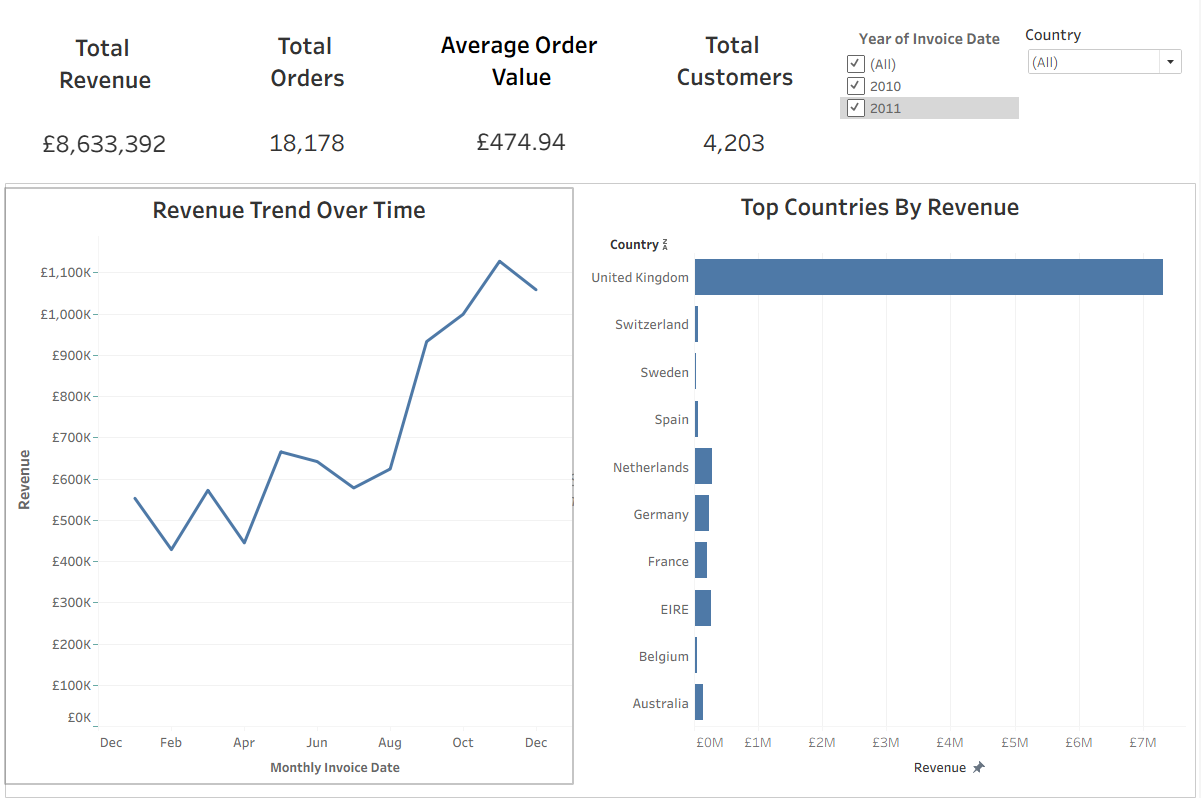

The page's visual inventory and layout, read from the dashboard file:
{"tool":"tableau","page":{"name":"Executive Overview","canvas":[1200,800],"ordinal":1},"visuals":[{"type":"worksheet","title":"KPI - Average Order Value (AOV)","mark":"Automatic","box":[417,25,211,156]},{"type":"worksheet","title":"KPI - Total Customers","mark":"Automatic","box":[636,25,200,157]},{"type":"worksheet","title":"KPI - Total Orders","mark":"Automatic","box":[206,26,205,155]},{"type":"worksheet","title":"KPI - Total Revenue","mark":"Automatic","box":[6,28,200,154]},{"type":"filter","title":"Monthly Revenue Trend","param":"[federated.08bz8h319zoiio131hh471t4ru6s].[yr:InvoiceDate:ok]","box":[841,29,179,153]},{"type":"worksheet","title":"Revenue by Country","mark":"Automatic","rows":["Country"],"cols":["Revenue"],"box":[575,187,612,598]},{"type":"worksheet","title":"Monthly Revenue Trend","mark":"Automatic","rows":["Revenue"],"cols":["InvoiceDate"],"box":[7,190,566,594]}]}

Visuals, with their boxes in screenshot pixels (x1, y1, x2, y2), scaled from the page's 1200x800 canvas onto the 1201x798 screenshot:
"KPI - Average Order Value (AOV)" worksheet: bbox(417, 25, 629, 181)
"KPI - Total Customers" worksheet: bbox(637, 25, 837, 182)
"KPI - Total Orders" worksheet: bbox(206, 26, 411, 181)
"KPI - Total Revenue" worksheet: bbox(6, 28, 206, 182)
"Monthly Revenue Trend" filter: bbox(842, 29, 1021, 182)
"Revenue by Country" worksheet: bbox(575, 187, 1188, 783)
"Monthly Revenue Trend" worksheet: bbox(7, 190, 573, 782)
